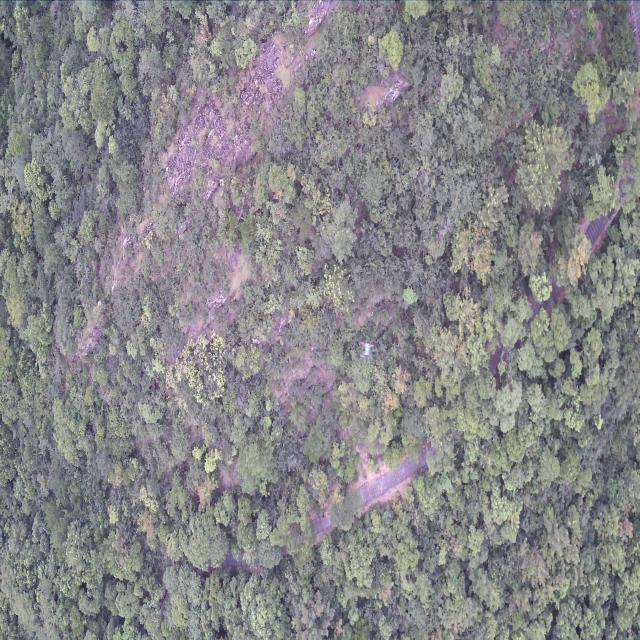UAV: (360, 341, 374, 359)
